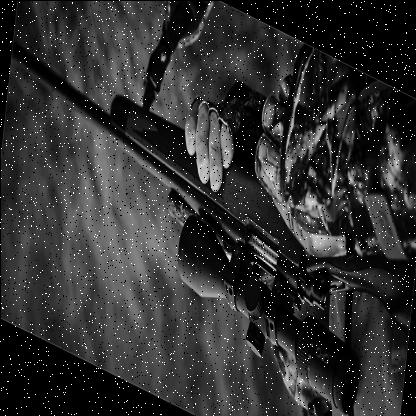rifle: (0, 10, 414, 416)
